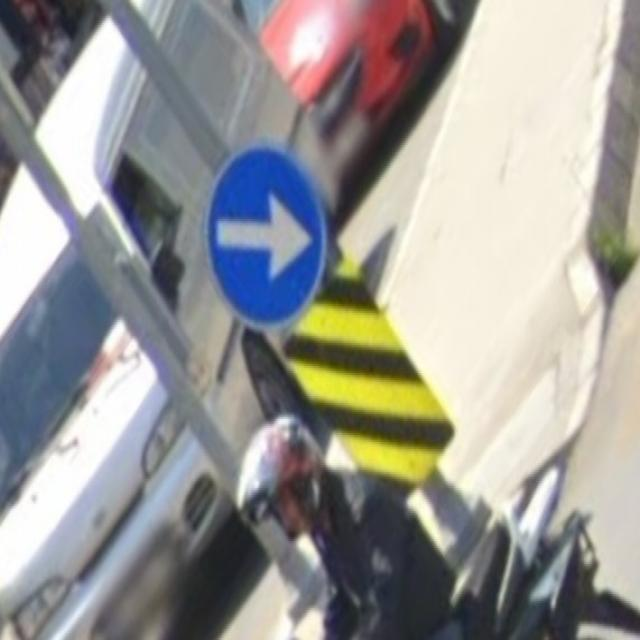Turn Right: (200, 147, 330, 332)
